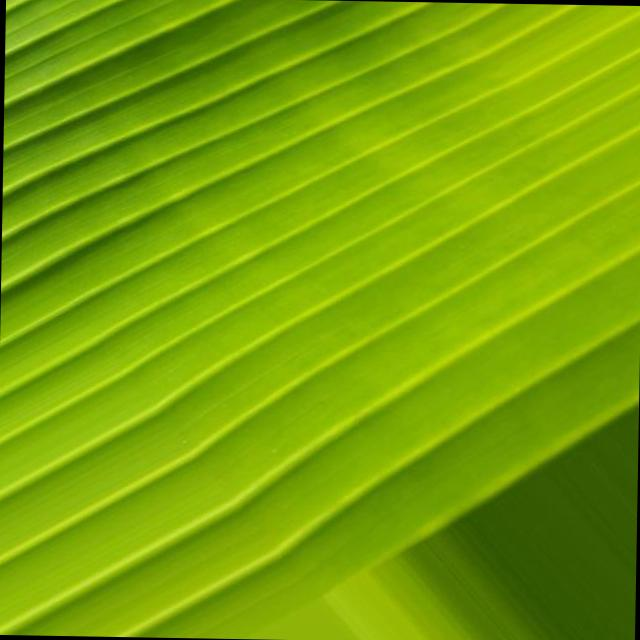Banana_Healthy: (74, 72, 504, 498)
